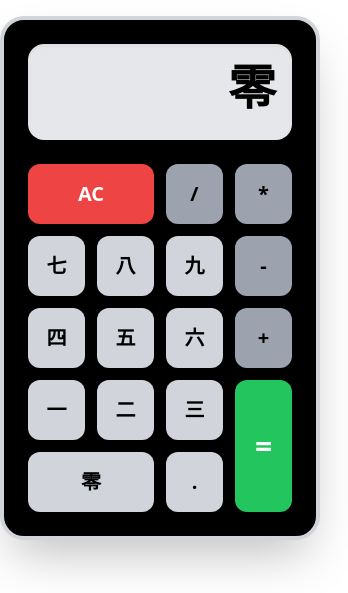
Calculator › calc.clear: resets the calculator state
The width and height of the screenshot is (348, 593).
What coordinates should you click on to do the following:
click the button "二"
I would click on:
 (126, 410)
Its box is [97,380,154,440].
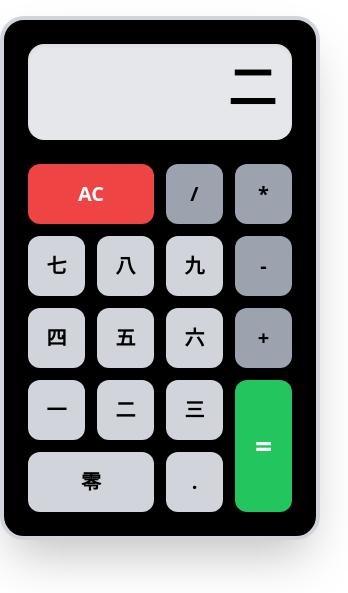
What coordinates should you click on to do the following:
click the button "+"
I would click on:
 (264, 338)
Its box is [235,308,292,368].
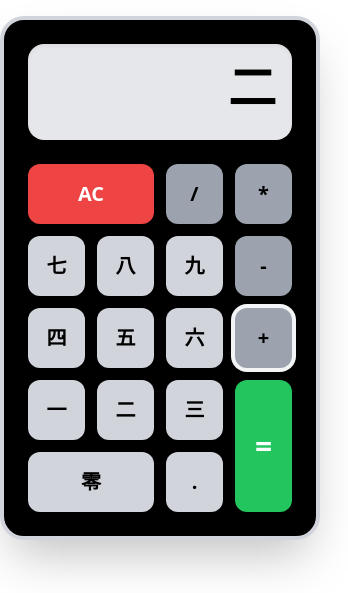
What coordinates should you click on to do the following:
click the button "三"
I would click on:
 (194, 410)
Its box is [166,380,223,440].
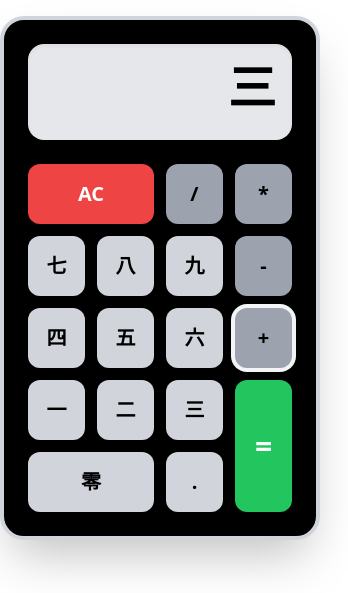
What coordinates should you click on to do the following:
click the button "="
I would click on:
 (264, 446)
Its box is [235,380,292,512].
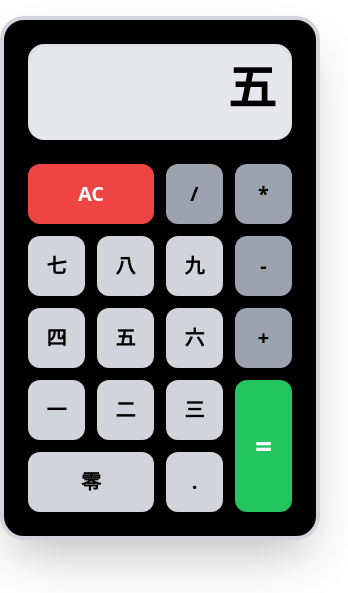
Expected: the text "五" is shown 2 times, [28,44,292,140]; [97,308,154,368]
What coordinates should you click on to do the following:
click the button "AC"
I would click on:
 (91, 194)
Its box is [28,164,154,224].
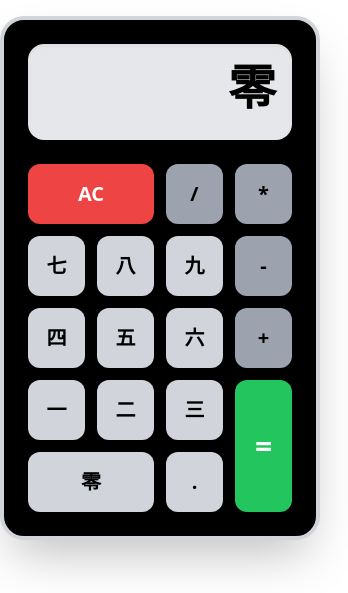
Expected: the text "零" is shown, [28,44,292,140]
